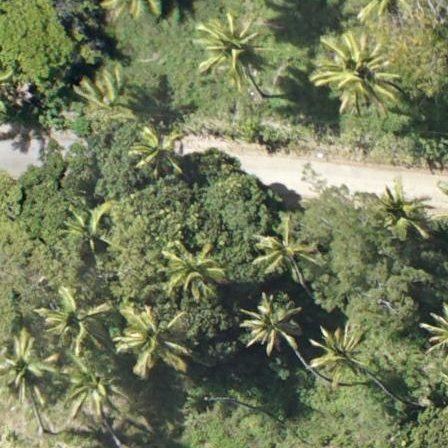palm_tree: (314, 38, 389, 106), (195, 19, 265, 85), (116, 306, 181, 368), (41, 291, 103, 350), (62, 362, 125, 417), (1, 335, 54, 399), (127, 124, 184, 183), (163, 241, 225, 295), (243, 295, 300, 351), (251, 221, 309, 274), (313, 326, 368, 378)
